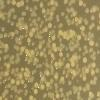white: (48, 29, 57, 42), (23, 72, 34, 82), (72, 85, 82, 94), (24, 82, 32, 93), (67, 16, 75, 26), (30, 6, 38, 16), (19, 21, 27, 30), (57, 43, 66, 51), (87, 39, 95, 48), (67, 29, 75, 38), (14, 0, 24, 7), (90, 52, 97, 62), (72, 38, 79, 48), (58, 75, 65, 85), (65, 90, 72, 100), (0, 10, 6, 21), (48, 64, 54, 75), (77, 0, 85, 8), (76, 16, 84, 24), (82, 34, 90, 42), (1, 89, 9, 97), (82, 83, 90, 91), (34, 62, 43, 69), (45, 41, 52, 50), (14, 73, 23, 80), (48, 91, 55, 100), (76, 91, 83, 100), (87, 91, 94, 100), (9, 30, 15, 40), (34, 34, 44, 40), (15, 52, 20, 64), (31, 49, 37, 59), (17, 16, 25, 23), (40, 74, 47, 82), (10, 85, 18, 92), (4, 82, 11, 90), (53, 71, 58, 82), (92, 3, 98, 12), (14, 36, 20, 45), (19, 45, 25, 54), (26, 57, 32, 66), (33, 57, 39, 66), (94, 66, 100, 75), (58, 58, 64, 67), (75, 65, 81, 74), (84, 18, 89, 28), (0, 0, 5, 10), (10, 55, 15, 65), (64, 7, 71, 14), (45, 14, 52, 21), (31, 18, 38, 25), (23, 66, 30, 73), (16, 88, 23, 95), (25, 49, 31, 57), (43, 59, 49, 67), (88, 31, 94, 39), (94, 41, 100, 49), (62, 32, 68, 40), (44, 80, 50, 88), (53, 82, 61, 88), (74, 55, 80, 63), (51, 19, 56, 28), (4, 30, 9, 39), (91, 68, 96, 77), (67, 40, 72, 49), (54, 90, 59, 99), (84, 7, 90, 14), (80, 24, 86, 31), (9, 8, 16, 14), (48, 0, 55, 6), (50, 6, 57, 12), (42, 25, 48, 32), (4, 54, 10, 61), (58, 37, 64, 44), (50, 57, 56, 64), (82, 57, 88, 64), (64, 47, 70, 54), (80, 31, 86, 38), (90, 61, 97, 67), (76, 34, 82, 41), (33, 82, 40, 88), (31, 70, 38, 76), (60, 91, 66, 98), (82, 76, 88, 83), (89, 79, 96, 85), (39, 0, 44, 8), (45, 8, 50, 16), (39, 40, 44, 48), (0, 39, 4, 49), (5, 43, 9, 53), (54, 62, 59, 70), (68, 2, 74, 8), (88, 7, 94, 13), (56, 14, 60, 23), (6, 12, 12, 18), (35, 29, 41, 35), (50, 43, 56, 49), (70, 48, 76, 54), (39, 84, 45, 90), (34, 88, 40, 94), (18, 66, 24, 72), (8, 94, 14, 100), (15, 80, 21, 86), (6, 76, 12, 82), (68, 80, 74, 86), (84, 68, 90, 74), (70, 61, 76, 67), (11, 0, 16, 7), (53, 0, 58, 7), (47, 22, 52, 29), (50, 52, 55, 59), (47, 49, 52, 56), (3, 69, 8, 76), (29, 95, 36, 100), (43, 92, 48, 99), (40, 52, 44, 60), (66, 52, 70, 60), (2, 78, 6, 86), (90, 14, 95, 20), (91, 22, 96, 28), (58, 23, 64, 28), (31, 0, 41, 3), (21, 11, 27, 16), (28, 17, 33, 23), (16, 22, 21, 28), (15, 30, 20, 36), (53, 48, 58, 54), (58, 51, 63, 57), (83, 44, 88, 50), (45, 70, 50, 76), (38, 70, 43, 76), (0, 72, 5, 78), (11, 78, 16, 84), (17, 95, 23, 100), (59, 88, 65, 93), (64, 73, 69, 79), (71, 74, 76, 80), (71, 56, 76, 62), (69, 0, 76, 4), (42, 7, 46, 14), (31, 27, 35, 34), (29, 32, 33, 39), (35, 49, 39, 56), (85, 50, 89, 57), (63, 0, 68, 5), (5, 0, 10, 5), (24, 6, 29, 11), (12, 15, 17, 20), (39, 20, 44, 25), (33, 24, 38, 29), (58, 31, 63, 36), (11, 68, 16, 73), (67, 68, 72, 73), (70, 69, 75, 74), (72, 10, 76, 16), (96, 26, 100, 32), (50, 11, 54, 17), (37, 16, 41, 22), (26, 38, 30, 44), (31, 40, 35, 46), (15, 45, 19, 51), (42, 47, 46, 53), (66, 62, 70, 68), (63, 57, 67, 63), (96, 49, 100, 55), (6, 63, 10, 69), (15, 68, 19, 74), (14, 94, 18, 100), (24, 90, 28, 96), (20, 78, 24, 84), (44, 86, 50, 90), (80, 73, 84, 79), (89, 26, 93, 31), (25, 0, 30, 4), (10, 22, 15, 26), (20, 34, 24, 39), (24, 34, 28, 39), (43, 54, 47, 59), (82, 52, 86, 57), (90, 48, 94, 53), (77, 47, 82, 51), (96, 91, 100, 96), (97, 20, 100, 26), (0, 32, 3, 38), (0, 81, 3, 87), (62, 69, 65, 75), (7, 19, 11, 23), (39, 24, 43, 28), (29, 23, 33, 27), (1, 27, 5, 31), (23, 57, 27, 61), (96, 96, 100, 100), (94, 76, 98, 80), (4, 97, 9, 100), (71, 8, 74, 12), (98, 13, 100, 19), (0, 56, 2, 62), (3, 63, 7, 66), (77, 80, 80, 84), (0, 95, 2, 100), (0, 50, 2, 54)
